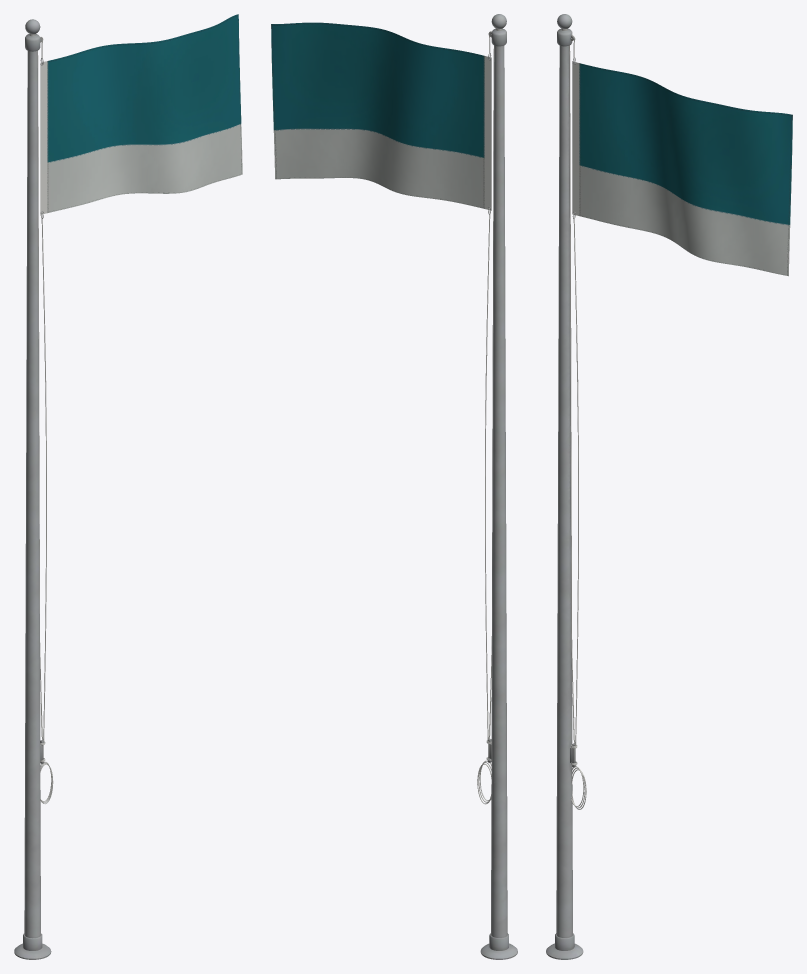
The model's file is flag_pole.glb.
3 views of the same model, side by side, from view 1: azimuth 30°, elevation 25°; view 2: azimuth 150°, elevation 25°; view 3: azimuth 330°, elevation 25° (orthographic).
Parts seen in each view (by area): view 1: flag-pole_flag, flag-pole_body; view 2: flag-pole_flag, flag-pole_body; view 3: flag-pole_flag, flag-pole_body.
Part boxes in pixels (box(x1,y1,x2,y2)): flag-pole_flag: box(40, 14, 242, 214); flag-pole_body: box(14, 19, 53, 959); flag-pole_flag: box(271, 22, 491, 210); flag-pole_body: box(477, 14, 517, 959); flag-pole_flag: box(572, 61, 792, 276); flag-pole_body: box(546, 14, 586, 959).
Bounding box in the file's own units: 1.6 × 6.12 × 0.234.
2 materials, 2 textured.
